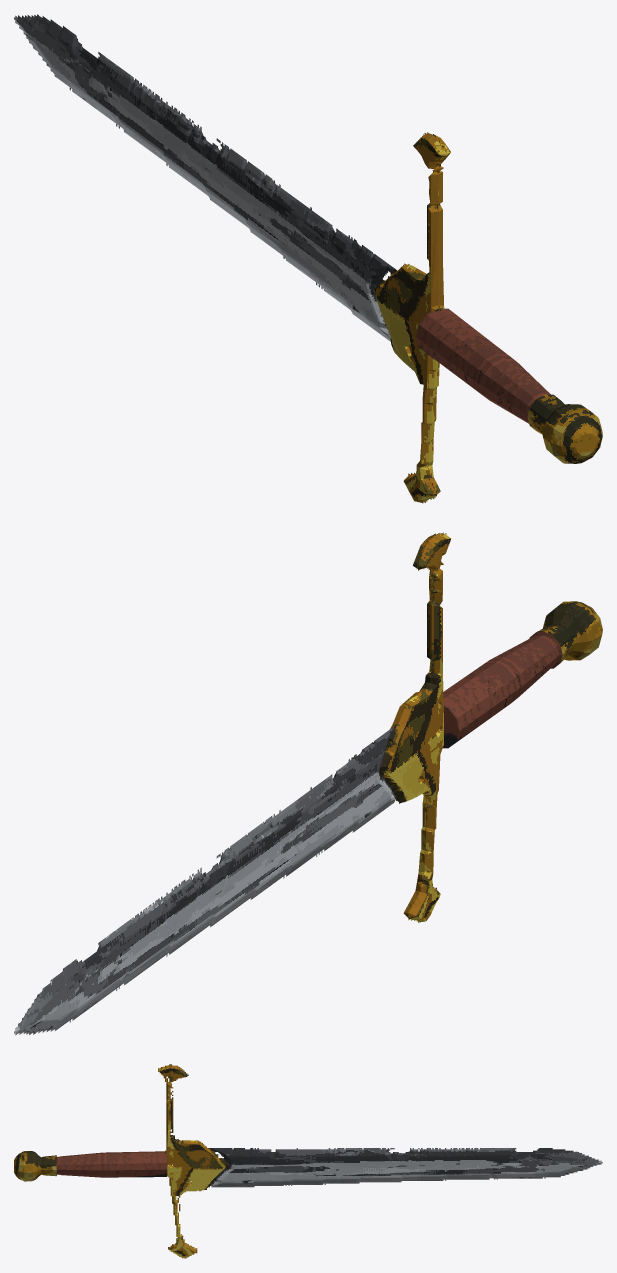
Rendered from broadsword.glb.
3 views of the same model, one above another, from view 1: azimuth 30°, elevation 25°; view 2: azimuth 150°, elevation 25°; view 3: azimuth 270°, elevation 25° (orthographic). The views are drawn at different scales.
Visible parts, largest first — view 1: blade, guard, grip, pommel; view 2: blade, guard, grip, pommel; view 3: blade, guard, grip, pommel.
Part boxes in pixels (x1=…): blade: x1=14, y1=14, x2=395, y2=341; guard: x1=374, y1=132, x2=450, y2=503; grip: x1=416, y1=308, x2=550, y2=423; pommel: x1=527, y1=394, x2=602, y2=463; blade: x1=14, y1=725, x2=395, y2=1035; guard: x1=379, y1=532, x2=450, y2=922; grip: x1=443, y1=632, x2=562, y2=748; pommel: x1=536, y1=601, x2=602, y2=662; blade: x1=210, y1=1148, x2=602, y2=1187; guard: x1=158, y1=1064, x2=227, y2=1258; grip: x1=56, y1=1151, x2=167, y2=1177; pommel: x1=14, y1=1151, x2=56, y2=1181.
Size of the model in its own units: 0.0494 by 0.3432 by 0.9444.
2 materials, 2 textured.
